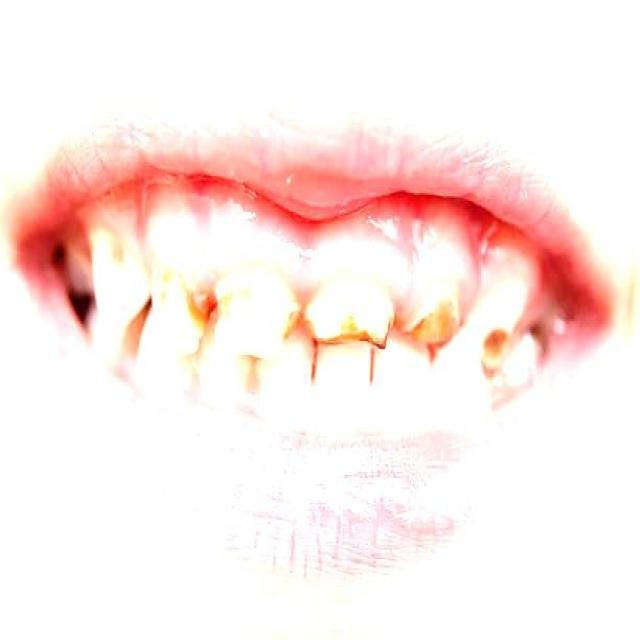caries: (305, 289, 397, 361), (176, 271, 234, 352), (468, 312, 519, 390), (399, 295, 462, 357)
